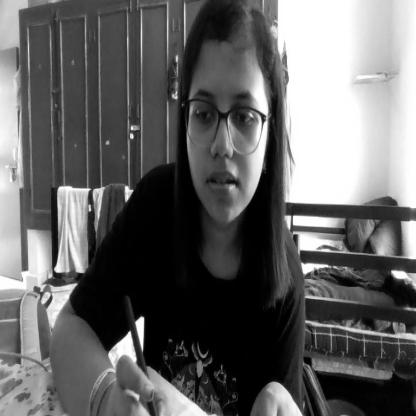Normal: (182, 0, 286, 235)
